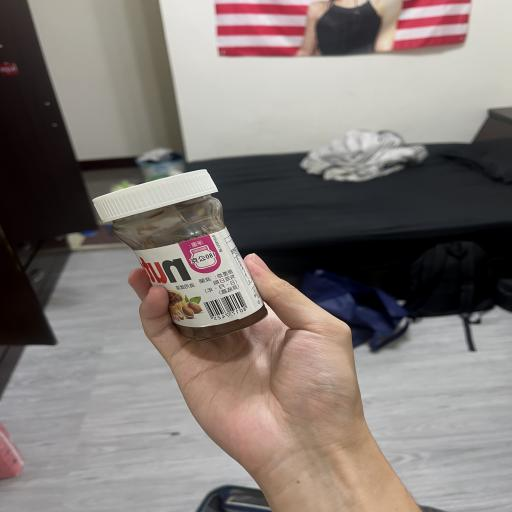chocolate_jar: (93, 170, 267, 340)
